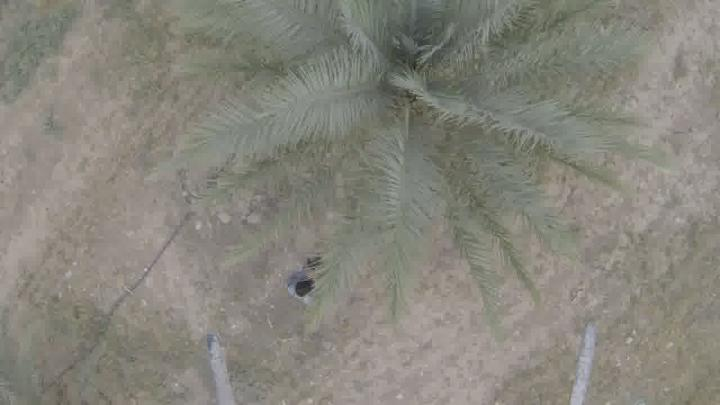Date-Palm-Crown: (267, 0, 551, 210)
